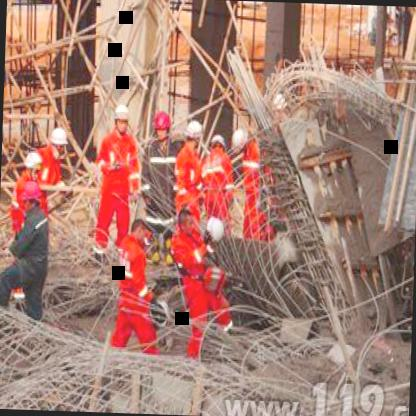head: (175, 200, 198, 238), (128, 217, 154, 248)
helmet: (110, 96, 133, 141), (18, 180, 44, 218), (22, 150, 46, 186), (150, 108, 174, 144), (228, 129, 255, 160), (183, 118, 204, 156), (49, 124, 69, 160), (207, 132, 228, 156)
